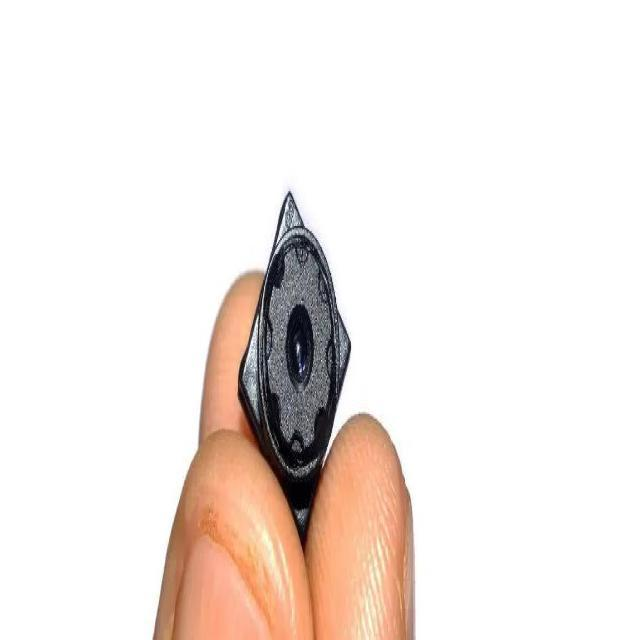hidden camera: (269, 240, 334, 454)
